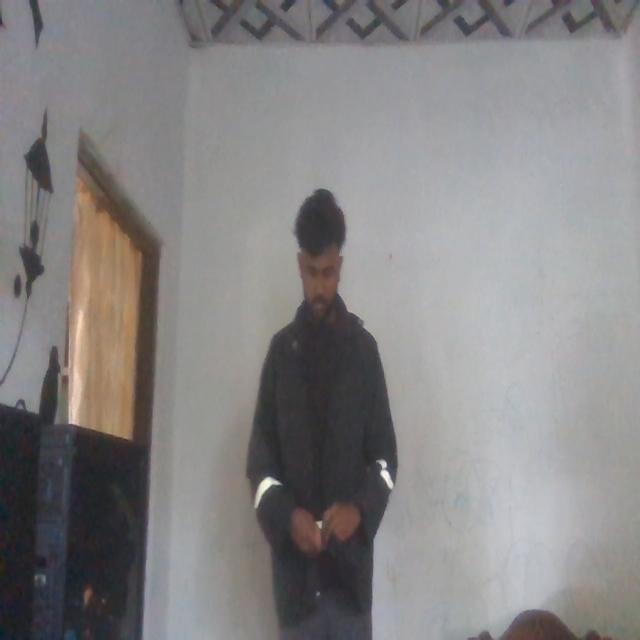Jacket_Wearer: (257, 291, 399, 605)
Person: (254, 187, 402, 625)
